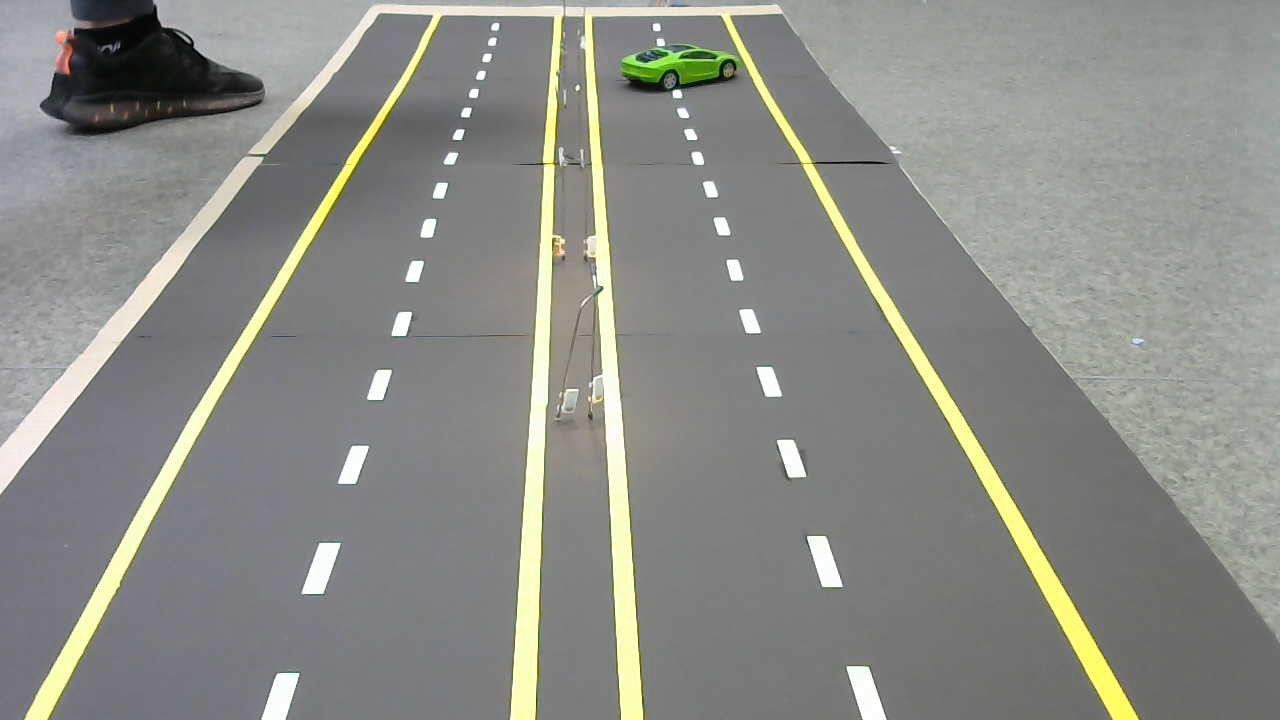overturn_car: (620, 41, 741, 96)
